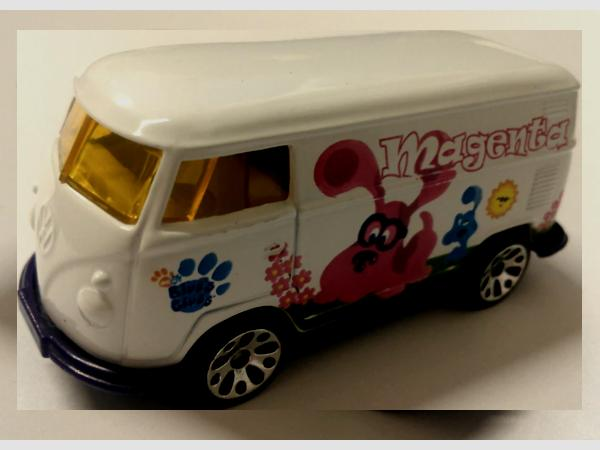toy-car: (16, 30, 581, 410)
